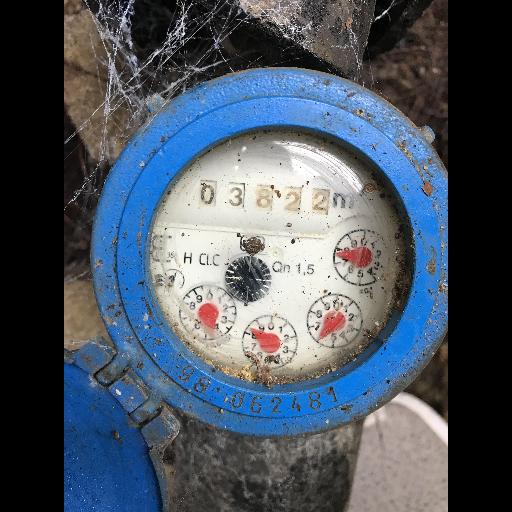0: (198, 179, 219, 207)
2: (281, 186, 304, 214), (309, 188, 331, 216)
3: (226, 182, 247, 210)
8: (254, 184, 275, 212)
border_water_meter_number: (193, 172, 335, 222)
